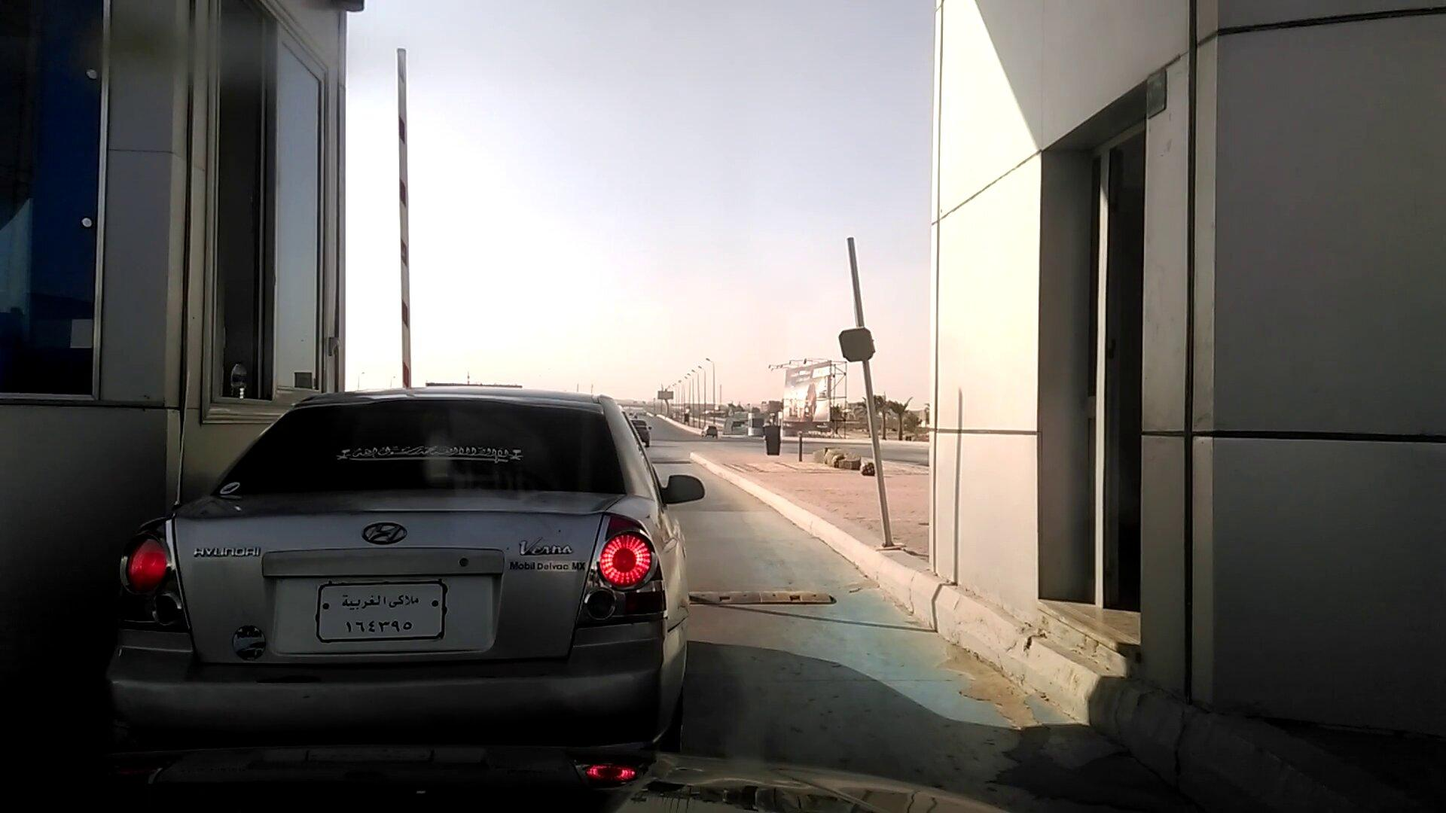Bump: (691, 587, 838, 615)
